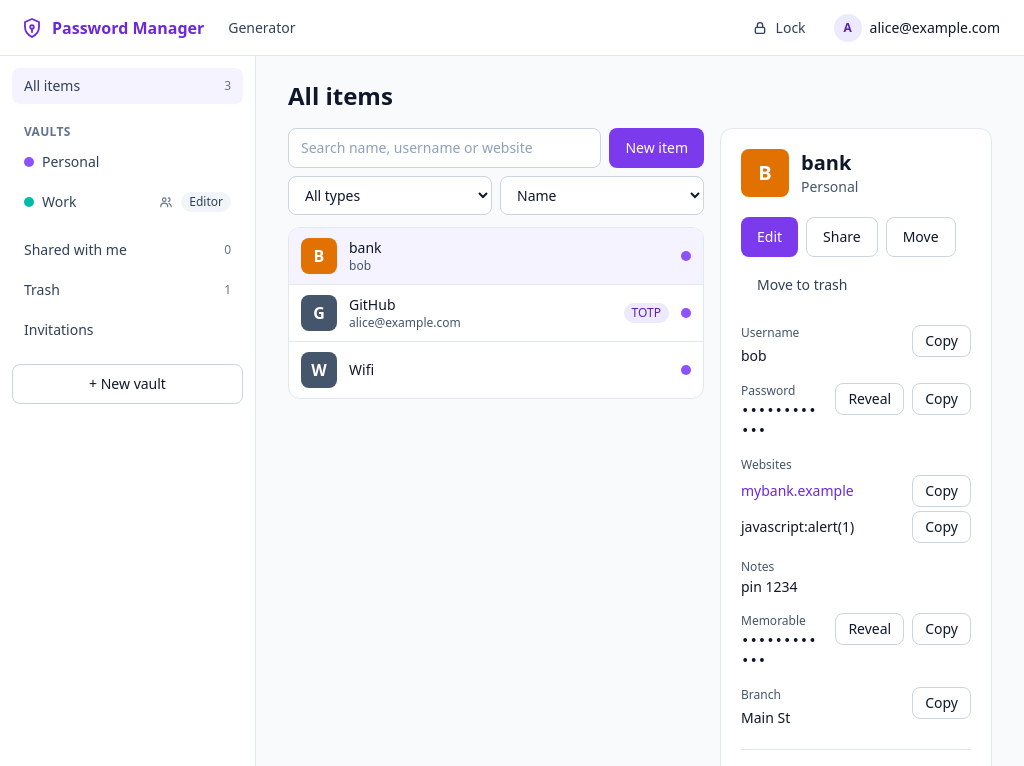
Test: item detail › copies fields, reveals the password and opens only http(s) links safely
The width and height of the screenshot is (1024, 766).
Expected: the heading "All items" is shown, x1=288 y1=80 x2=393 y2=112
Expected: the heading "bank" is shown, x1=801 y1=149 x2=851 y2=176
Step 1. Click the button with aria-label "Reveal password" → (870, 399), box x1=835 y1=383 x2=904 y2=415
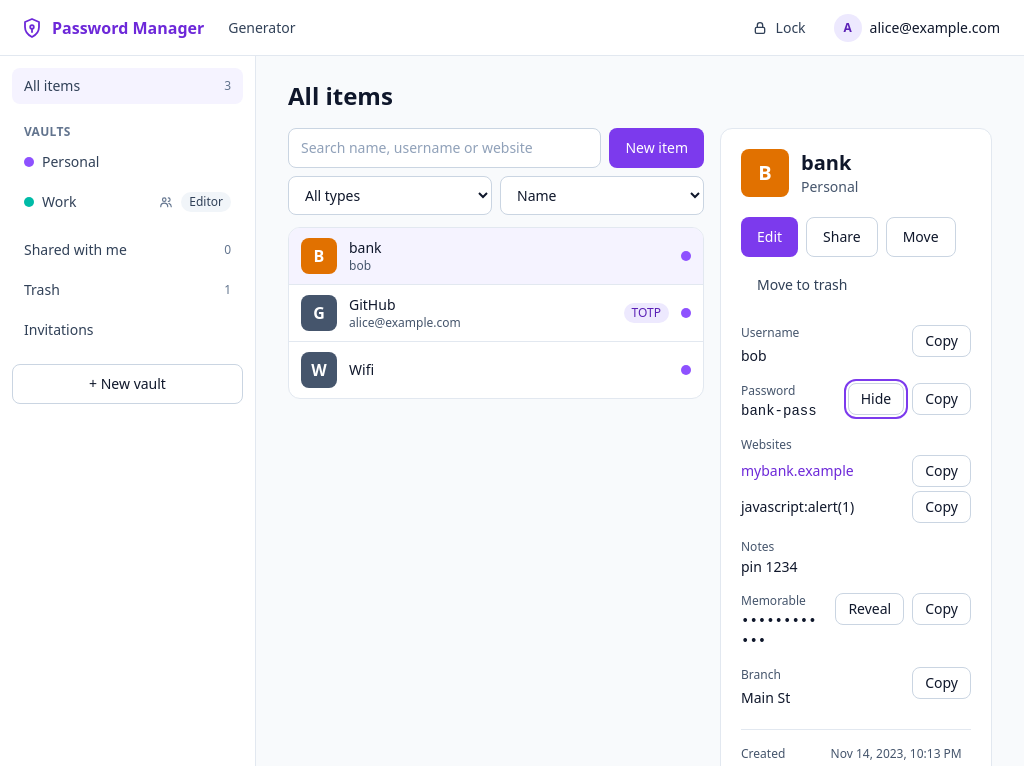
Now the text with test id "secret-Password" reads "bank-pass", box x1=741 y1=403 x2=817 y2=419
Step 2. Click the button with aria-label "Hide password" → (876, 399), box x1=848 y1=383 x2=904 y2=415
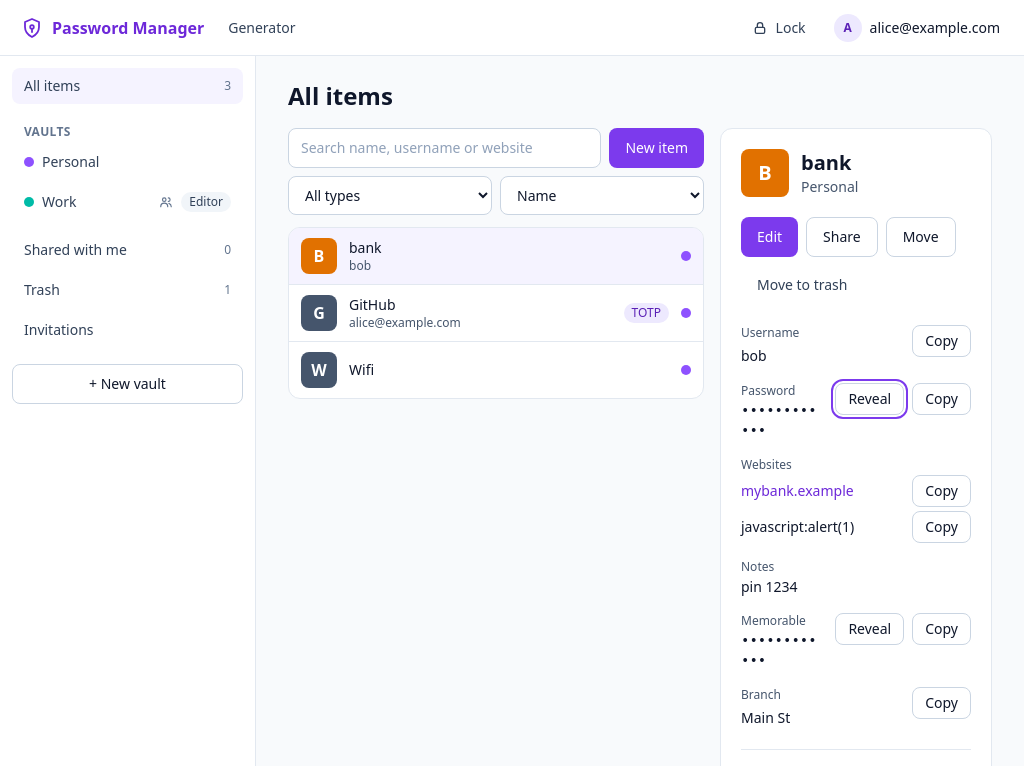
Now the text with test id "secret-Password" shows "••••", box x1=741 y1=403 x2=817 y2=439
Step 3. Click the button with aria-label "Copy password" → (942, 399), box x1=912 y1=383 x2=971 y2=415
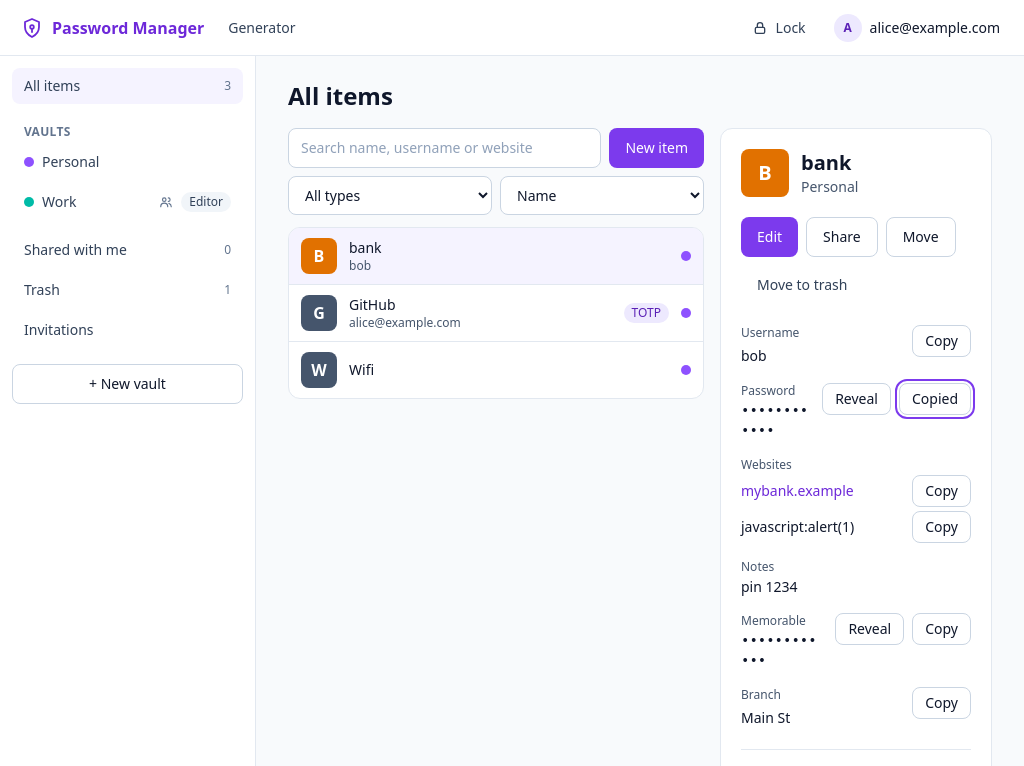
Step 4. Click the button with aria-label "Copy username" → (942, 341), box x1=912 y1=325 x2=971 y2=357
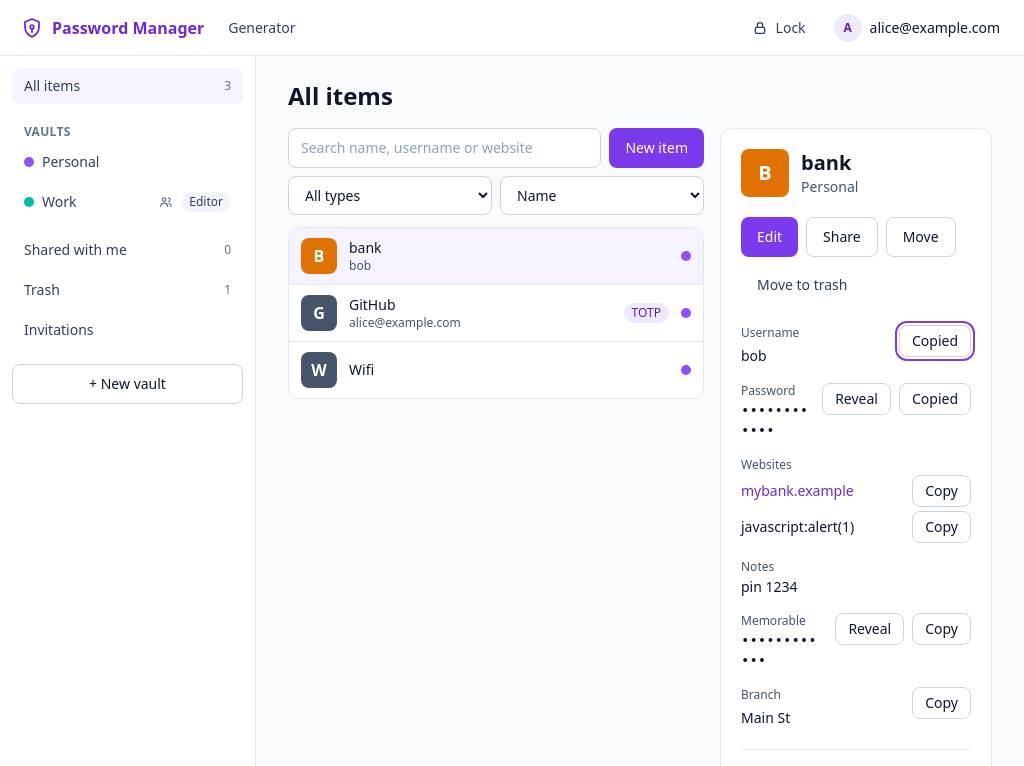
Expected: the text "javascript:alert(1)" is shown, x1=741 y1=517 x2=854 y2=537
Expected: the text "pin 1234" is shown, x1=741 y1=577 x2=798 y2=596
Step 5. Click the button with aria-label "Reveal memorable" → (870, 629), box x1=835 y1=613 x2=904 y2=645
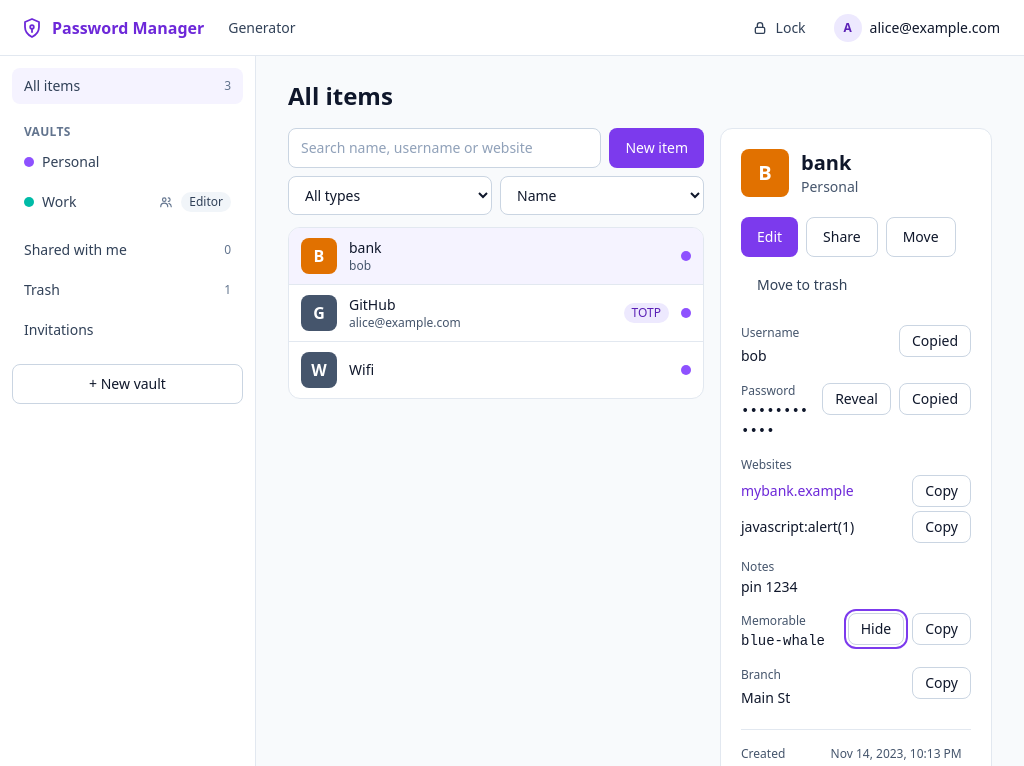
Expected: the text "Created" is shown, x1=741 y1=745 x2=785 y2=762
Now the text "blue-whale" is shown, box x1=741 y1=631 x2=836 y2=651
